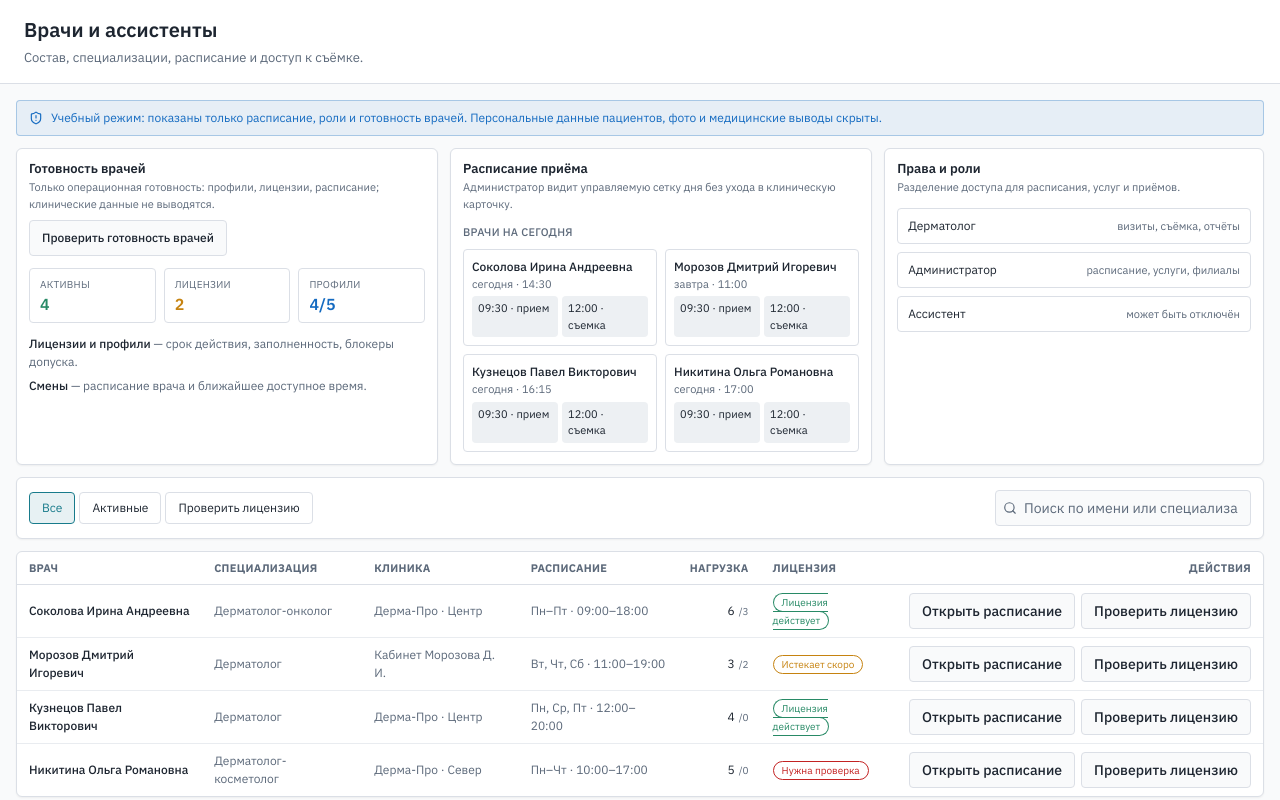
Test: Admin clinic core pages — render & safety › AdminDoctorsPage exposes an admin-ready doctors schedule and role-readiness cockpit
The width and height of the screenshot is (1280, 800).
Check: the heading "Готовность врачей" is shown, box [29,160,146,177]
Check: the heading "Расписание приёма" is shown, box [463,160,588,177]
Click the button "Проверить готовность врачей". click: [128, 238]
box: [29,220,227,256]
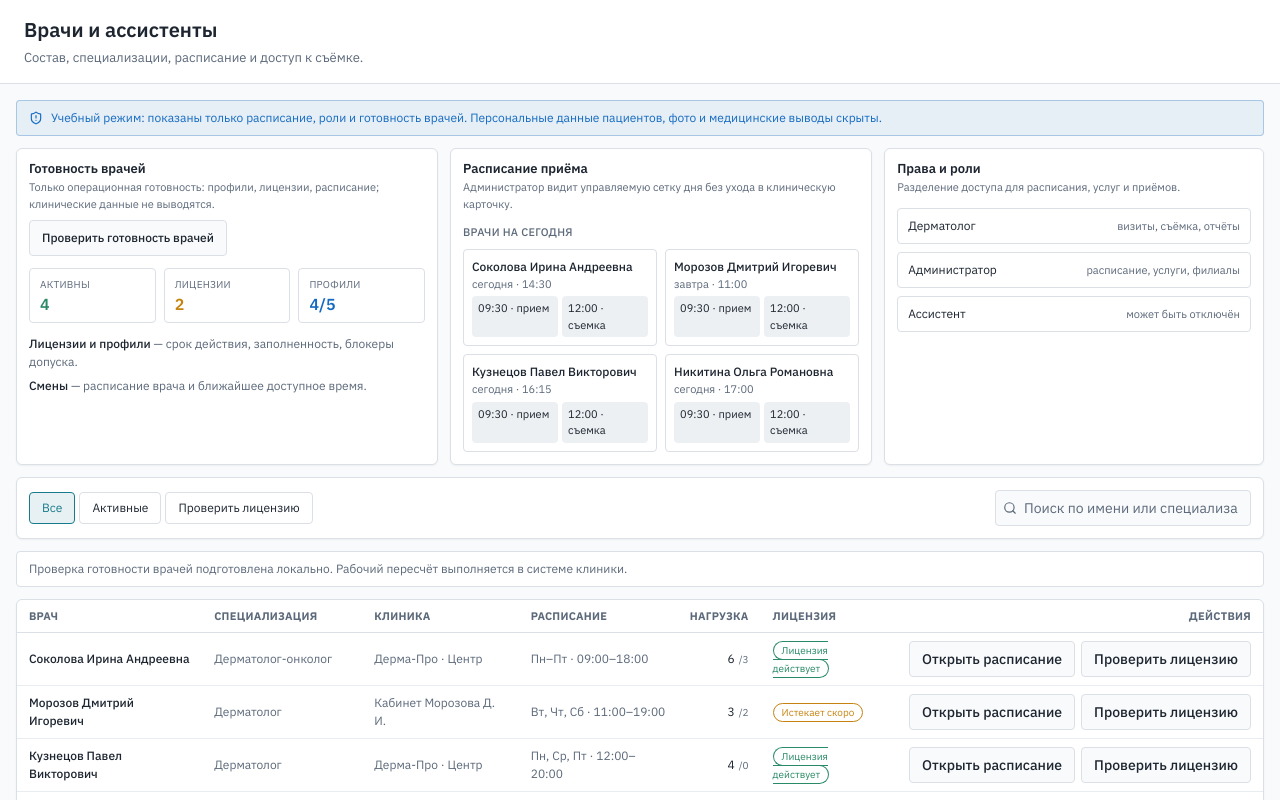
Check: the text "Проверка готовности врачей подготовлена локально" is shown, box [29,561,627,576]
